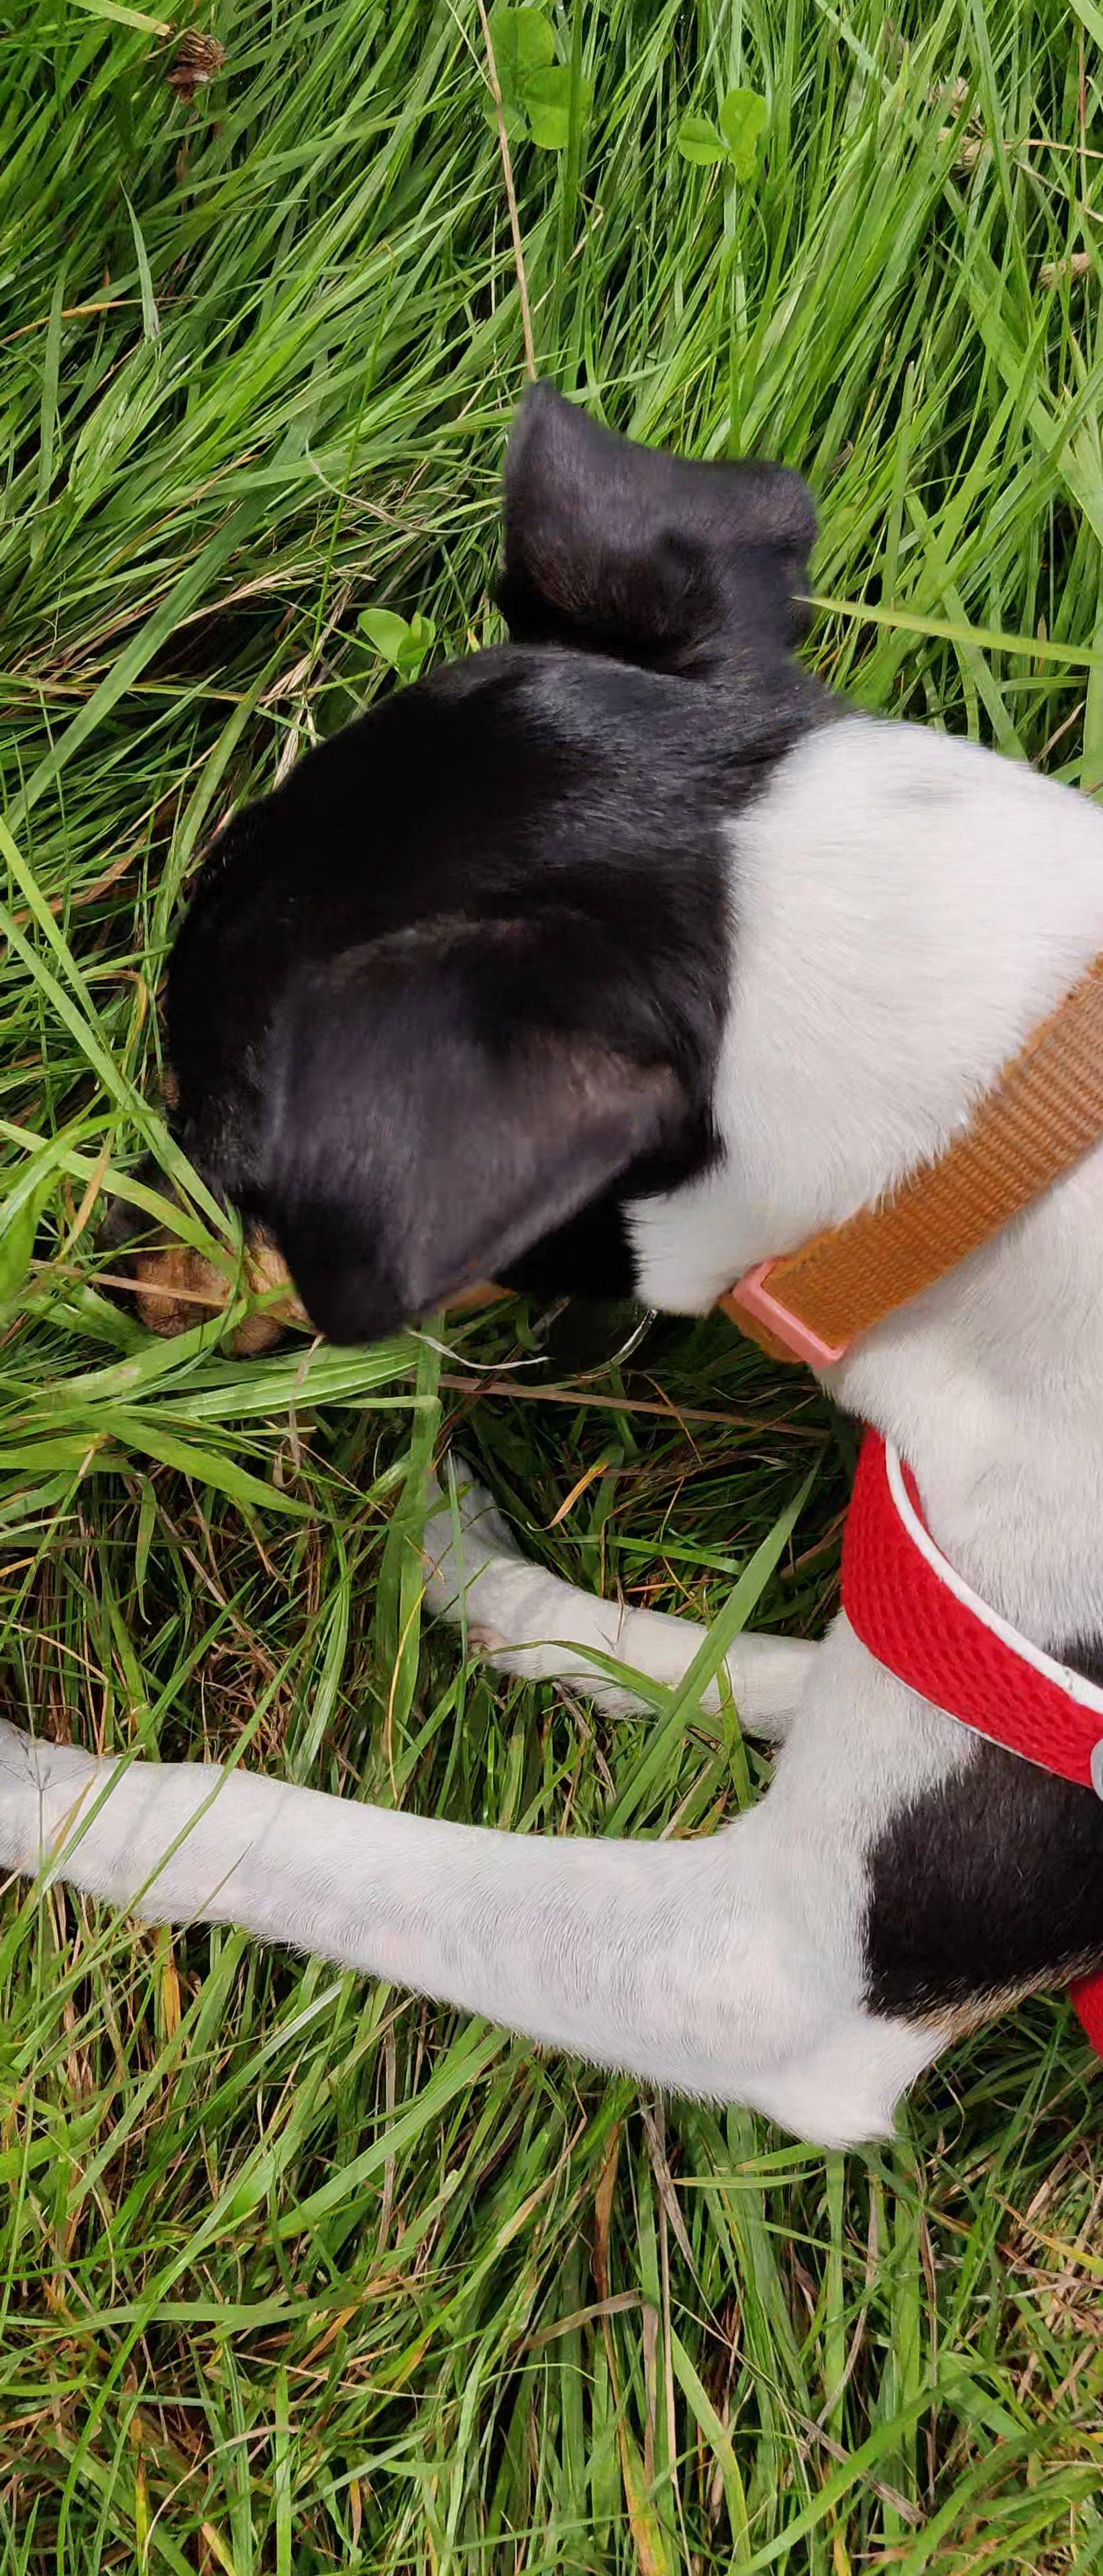Dog: (0, 353, 1103, 2170)
